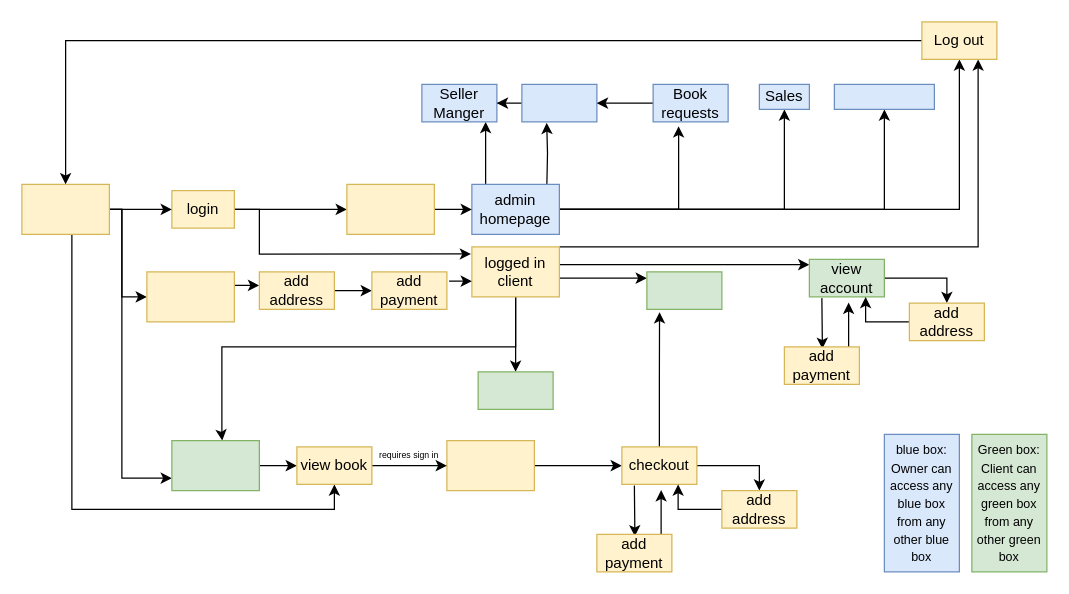
Image size: 1069x594. Some labels were removed from this diagram. Here are the shapes that lost their labels. From the top down, the centre of each, then its label:
At (559,102): "Inventory Manager".
At (883,96): "Transactions".
At (65,208): "Visit homepage".
At (390,208): "logged in admin".
At (190,296): "create account".
At (684,290): "view orders".
At (515,390): "request book".
At (215,465): "search books".
At (490,465): "add books to cart".
